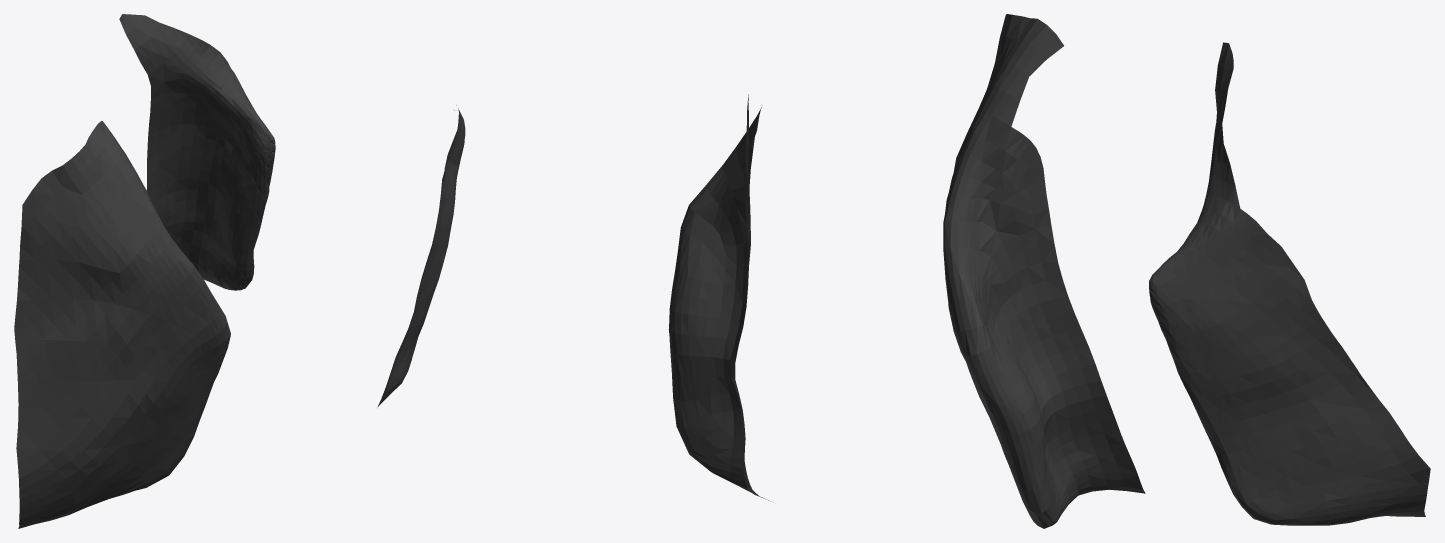
The model's file is eq_dist_limb_Palmar_Anular_Lig.glb.
3 renders of one model, left to right at view 1: azimuth 30°, elevation 25°; view 2: azimuth 150°, elevation 25°; view 3: azimuth 270°, elevation 25°, orthographic. The views are drawn at different scales.
Visible parts, largest first — view 1: eq_dist_limb_Palmar_Anular_Lig; view 2: eq_dist_limb_Palmar_Anular_Lig; view 3: eq_dist_limb_Palmar_Anular_Lig.
Part boxes in pixels (x1,y1,x2,y2): eq_dist_limb_Palmar_Anular_Lig: (14,14,275,528); eq_dist_limb_Palmar_Anular_Lig: (377,94,773,502); eq_dist_limb_Palmar_Anular_Lig: (943,14,1430,528).
Bounding box in the file's own units: 0.0061 × 0.00733 × 0.00616.
1 material, 1 textured.
